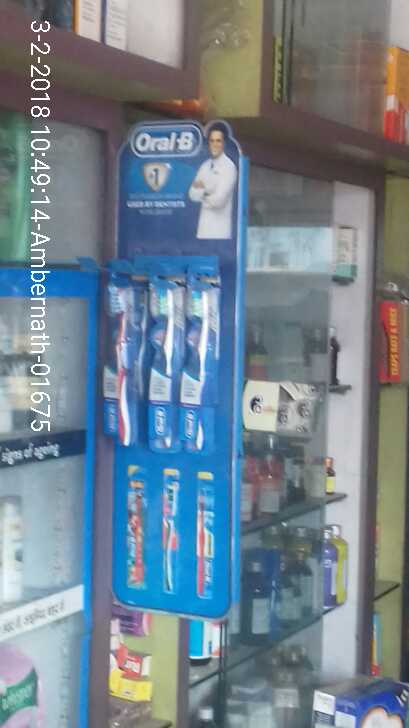oralb: (94, 289, 144, 449), (174, 281, 212, 452), (147, 291, 178, 445)
